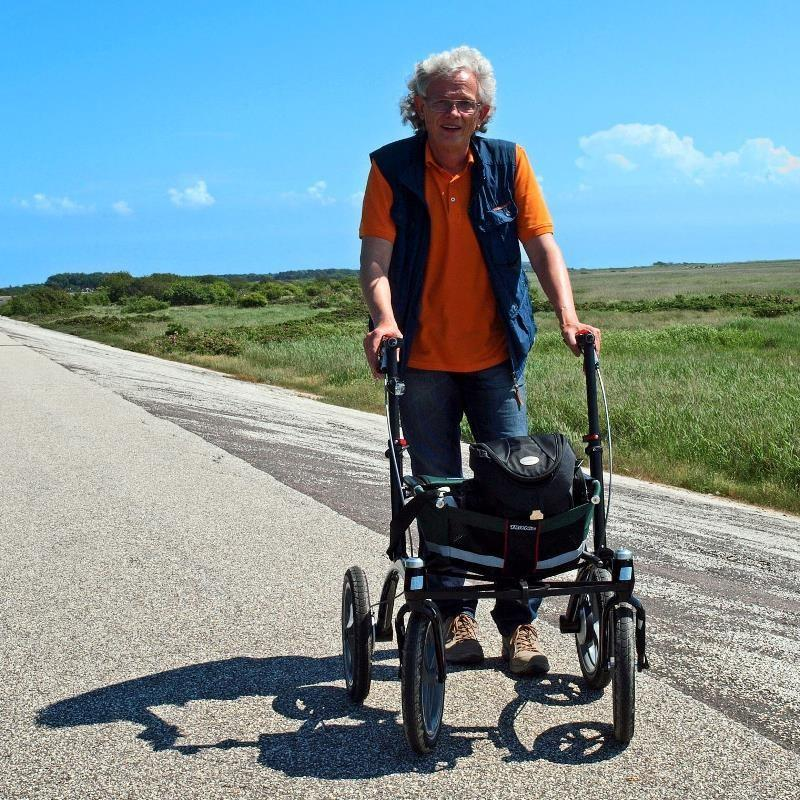walking_frame: (340, 46, 653, 753)
